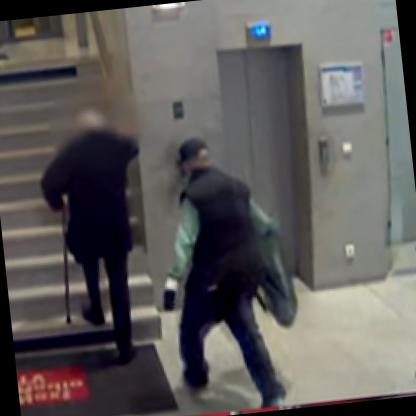Human Body: (139, 124, 306, 415), (24, 93, 163, 369)
